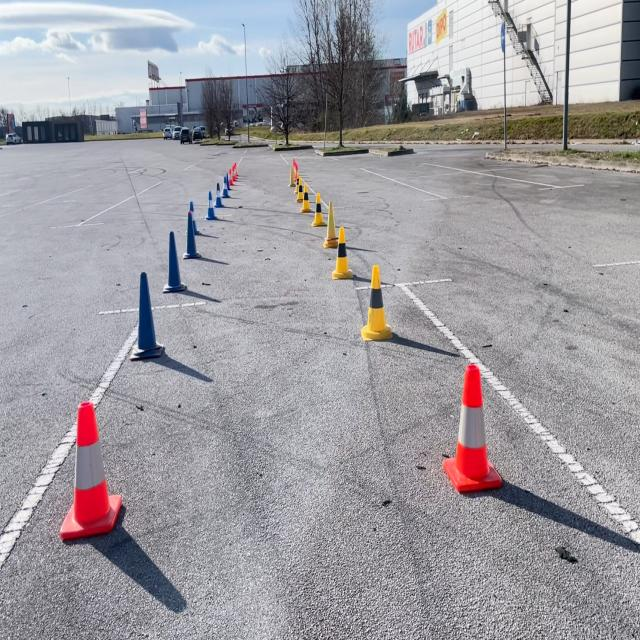blue_cone: (129, 272, 164, 360), (164, 230, 187, 294), (183, 213, 201, 260), (190, 201, 201, 233), (205, 191, 217, 219), (213, 183, 224, 207), (221, 176, 231, 197), (227, 174, 230, 190)
orange_cone: (61, 400, 127, 540), (442, 365, 501, 494), (229, 166, 233, 186), (294, 165, 298, 182), (232, 165, 235, 181), (234, 162, 237, 176), (293, 162, 296, 176), (292, 158, 294, 174), (234, 164, 236, 179), (294, 164, 296, 178)
yellow_cone: (360, 265, 393, 341), (332, 228, 353, 279), (323, 201, 339, 249), (311, 193, 325, 227), (300, 184, 312, 212), (295, 178, 304, 204), (296, 179, 304, 203), (289, 164, 295, 187), (294, 172, 299, 193), (295, 170, 299, 194)
